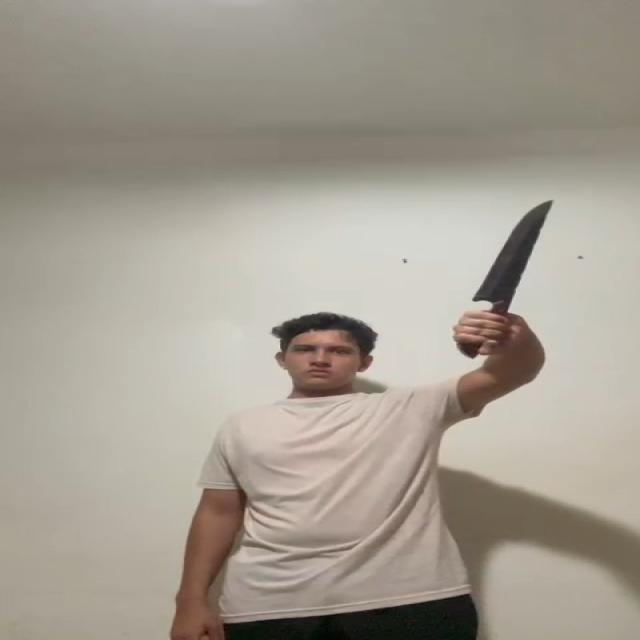knife: (470, 198, 557, 301)
